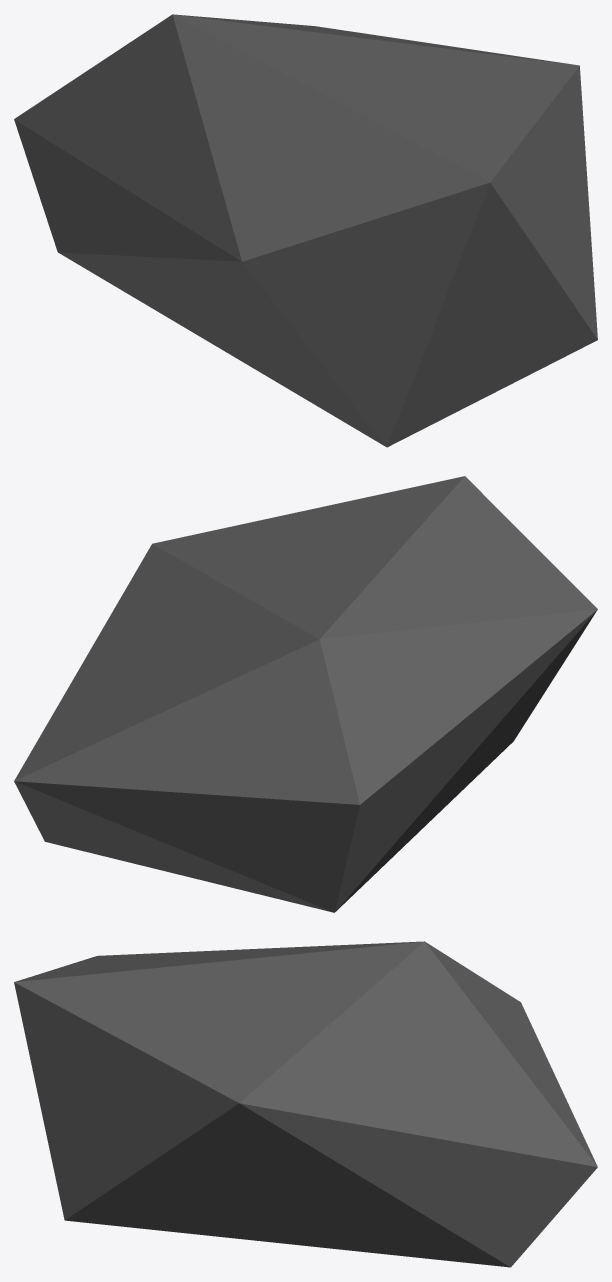
Rendered from Model_Kamien2.fbx.
The picture shows the model from 3 angles, top to bottom: view 1: azimuth 30°, elevation 25°; view 2: azimuth 150°, elevation 25°; view 3: azimuth 270°, elevation 25°; orthographic projection. The views are drawn at different scales.
Parts seen in each view (by area): view 1: Icosphere.001; view 2: Icosphere.001; view 3: Icosphere.001.
Boxes of the visible parts, x1=… form: Icosphere.001: x1=14, y1=14, x2=597, y2=447; Icosphere.001: x1=14, y1=476, x2=597, y2=912; Icosphere.001: x1=14, y1=941, x2=597, y2=1267.
Size of the model in its own units: 44.29 by 19.51 by 31.41.
